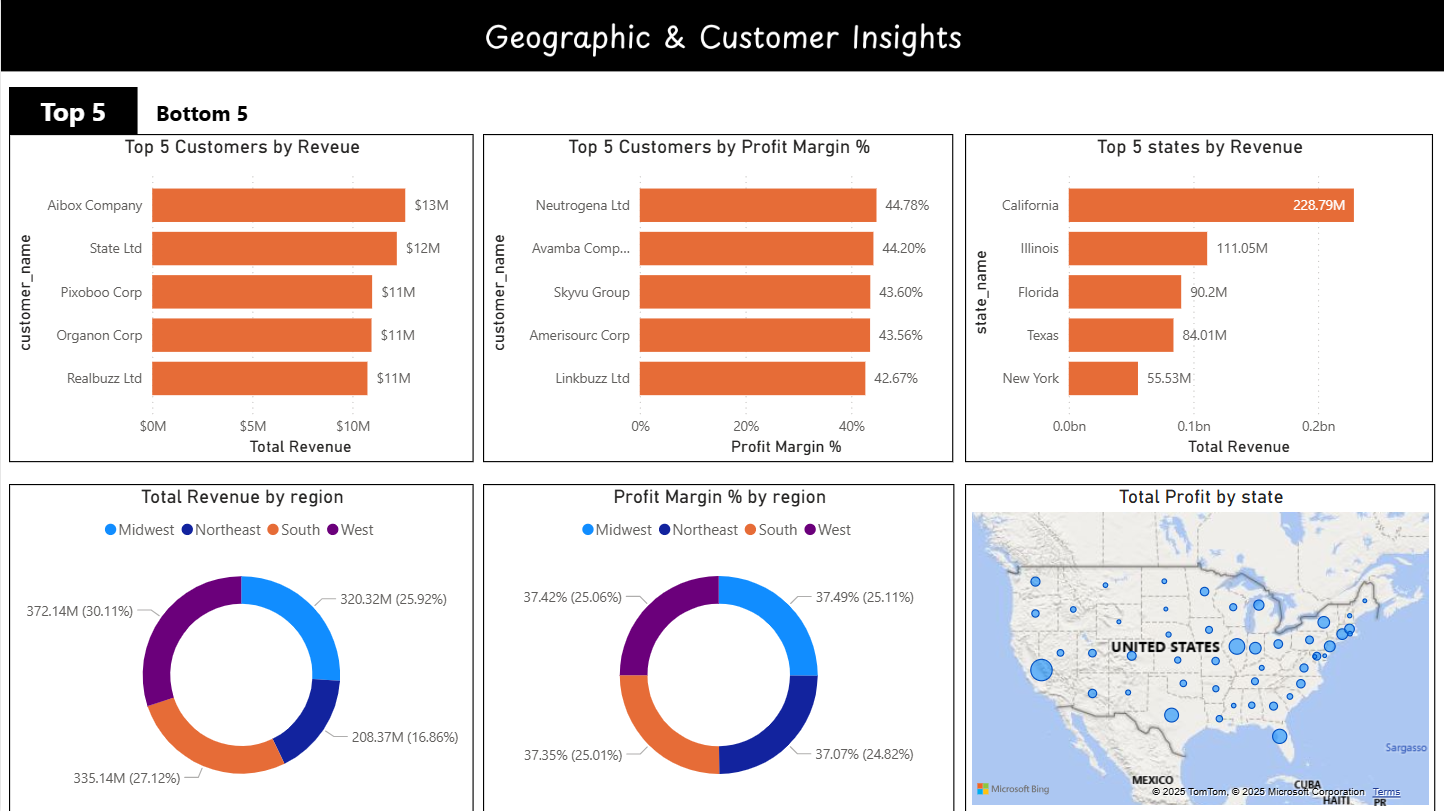

What the dashboard file says about the page in this screenshot:
{"tool":"powerbi","page":{"name":"Graphic & customer Insights","canvas":[1280,720],"ordinal":2},"visuals":[{"type":"actionButton","box":[121,79,114,40],"z":0,"group":"g3"},{"type":"barChart","title":"Top 5 Customers by Profit Margin %","fields":{"Category":["Sales_data.customer_name"],"Y":["Measures_.Profit Margin %"]},"box":[427,119,417,291],"z":0,"group":"g2"},{"type":"group","id":"g1","title":"Group 1","box":[7,129,1265,288],"z":0},{"type":"shape","box":[7,77,114,42],"z":1000,"group":"g3"},{"type":"group","id":"g2","title":"Group 2","box":[7,119,1263,291],"z":1000},{"type":"barChart","title":"Top 5 states by Revenue","fields":{"Category":["Sales_data.state_name"],"Y":["Measures_.Total Revenue"]},"box":[855,119,415,291],"z":1000,"group":"g2"},{"type":"barChart","title":"Top 5 Customers by Reveue","fields":{"Y":["Measures_.Total Revenue"],"Category":["Sales_data.customer_name"]},"box":[7,119,412,291],"z":2000,"group":"g2"},{"type":"donutChart","fields":{"Category":["Sales_data.region"],"Y":["Measures_.Total Revenue"]},"box":[7,429,412,291],"z":2000},{"type":"donutChart","fields":{"Category":["Sales_data.region"],"Y":["Measures_.Profit Margin %"]},"box":[427,429,418,291],"z":3000},{"type":"map","fields":{"Category":["Sales_data.state"],"Size":["Measures_.Total Profit"]},"box":[855,429,417,291],"z":4000},{"type":"group","id":"g3","title":"Top 5 highlighted","box":[7,77,228,42],"z":5000},{"type":"group","id":"g4","title":"Bottom 5 highlighted","box":[7,79,228,50],"z":6000}]}

Visuals, with their boxes in screenshot pixels (x1, y1, x2, y2), scaled from the page's 1280x720 canvas onto the 1444x811 screenshot:
actionButton: rect(137, 89, 265, 134)
"Top 5 Customers by Profit Margin %" barChart: rect(482, 134, 952, 462)
"Group 1" group: rect(8, 145, 1435, 470)
shape: rect(8, 87, 137, 134)
"Group 2" group: rect(8, 134, 1433, 462)
"Top 5 states by Revenue" barChart: rect(965, 134, 1433, 462)
"Top 5 Customers by Reveue" barChart: rect(8, 134, 473, 462)
donutChart - Sales_data.region x Measures_.Total Revenue: rect(8, 483, 473, 810)
donutChart - Sales_data.region x Measures_.Profit Margin %: rect(482, 483, 953, 810)
map - Sales_data.state x Measures_.Total Profit: rect(965, 483, 1435, 810)
"Top 5 highlighted" group: rect(8, 87, 265, 134)
"Bottom 5 highlighted" group: rect(8, 89, 265, 145)
